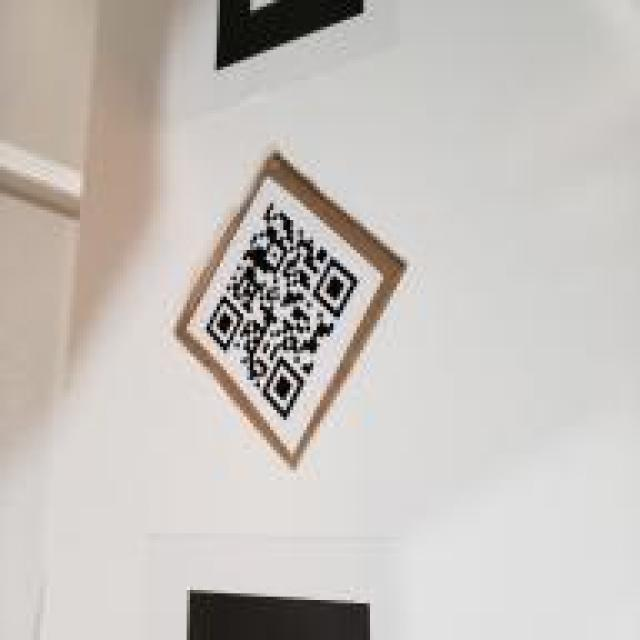QR_CODE: (203, 190, 367, 427)
